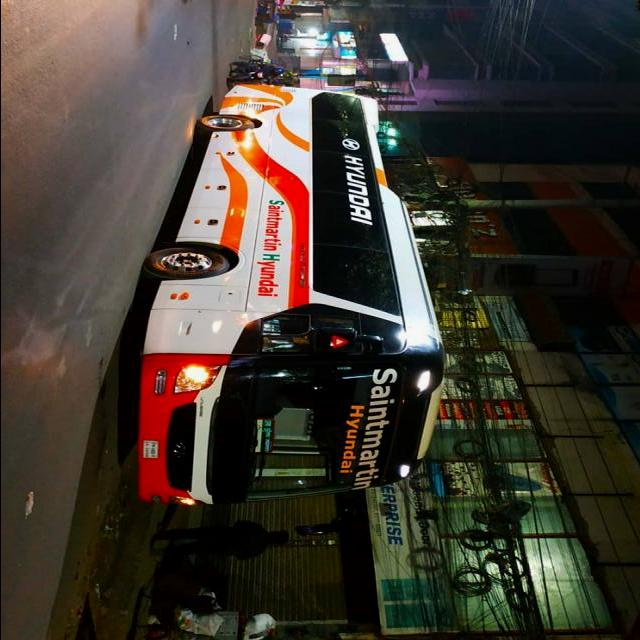bus: (138, 85, 446, 505)
